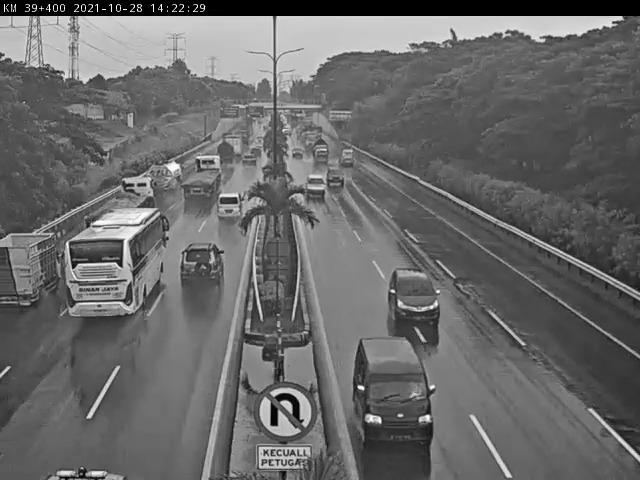big bus: (66, 213, 167, 331)
big truck: (117, 173, 156, 216), (183, 156, 216, 200)
car: (348, 336, 446, 460), (378, 259, 445, 333), (174, 242, 225, 290), (215, 190, 246, 223), (303, 171, 327, 199), (326, 166, 347, 185), (241, 159, 263, 173), (248, 144, 263, 160), (251, 139, 264, 154)
small truck: (0, 230, 63, 316), (133, 154, 170, 198), (211, 143, 232, 168), (337, 144, 355, 164)
